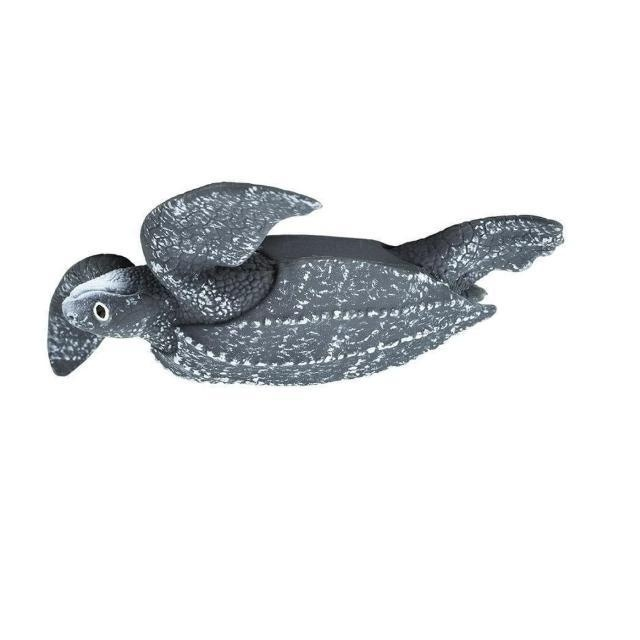turtle: (45, 181, 567, 387)
